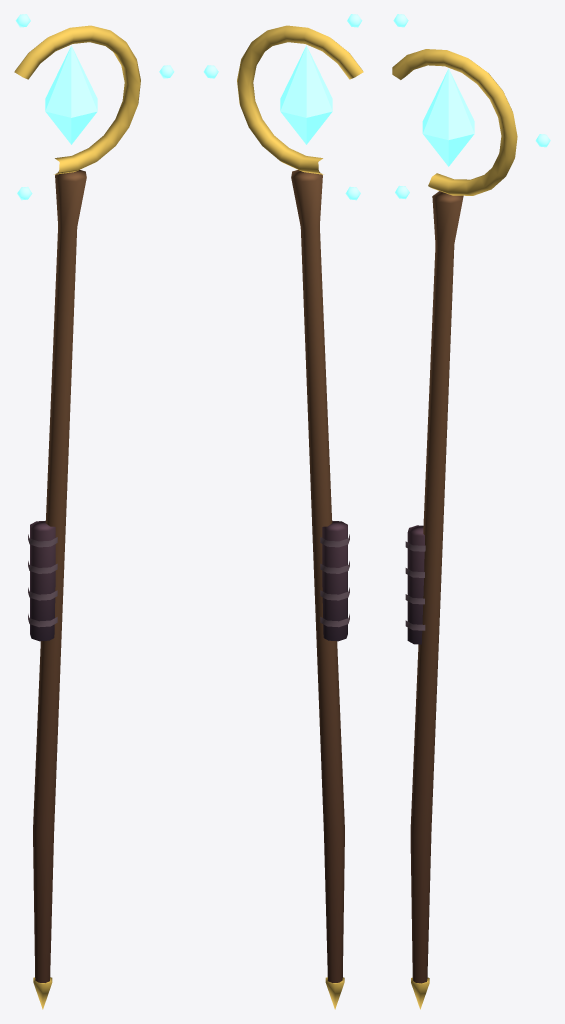
File: staff_azure.glb
3 views of the same model, side by side, from view 1: azimuth 30°, elevation 25°; view 2: azimuth 150°, elevation 25°; view 3: azimuth 330°, elevation 25° (orthographic).
Parts seen in each view (by area): view 1: staff_azure; view 2: staff_azure; view 3: staff_azure.
Boxes of the visible parts, <box> form: staff_azure: <box>14,14,174,1009</box>; staff_azure: <box>203,14,363,1009</box>; staff_azure: <box>392,14,550,1009</box>.
Size of the model in its own units: 0.3315 by 2 by 0.0953.
